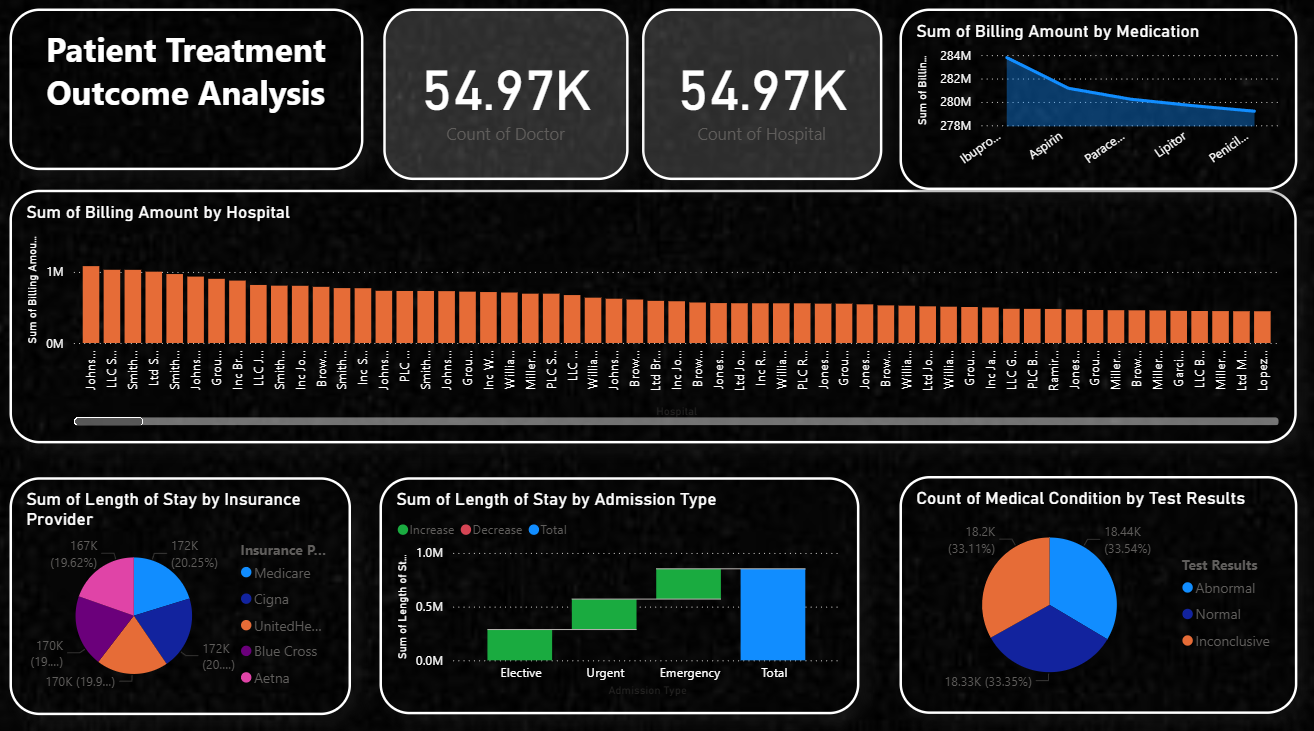

The page's visual inventory and layout, read from the dashboard file:
{"tool":"powerbi","page":{"name":"Page 1","canvas":[1280,720],"ordinal":0},"visuals":[{"type":"pieChart","fields":{"Category":["new cleained.Insurance Provider"],"Y":["Sum(new cleained.Length of Stay)"]},"box":[0,469.6,341.2,250.7],"z":0},{"type":"clusteredColumnChart","fields":{"Category":["new cleained.Hospital"],"Y":["Sum(new cleained.Billing Amount)"]},"box":[0,191.8,1280,244.9],"z":1},{"type":"waterfallChart","fields":{"Category":["new cleained.Admission Type"],"Y":["Sum(new cleained.Length of Stay)"]},"box":[369.3,469.6,463.5,228.7],"z":2},{"type":"pieChart","fields":{"Category":["new cleained.Test Results"],"Y":["CountNonNull(new cleained.Medical Condition)"]},"box":[870.7,468.3,384,229.9],"z":3},{"type":"areaChart","fields":{"Category":["new cleained.Medication"],"Y":["Sum(new cleained.Billing Amount)"]},"box":[871.1,16.9,409,174.9],"z":4},{"type":"card","fields":{"Values":["CountNonNull(new cleained.Hospital)"]},"box":[622.5,16.9,231.6,165.3],"z":5},{"type":"card","fields":{"Values":["CountNonNull(new cleained.Doctor)"]},"box":[372.8,8.4,236.5,173.7],"z":6},{"type":"textbox","box":[0,0,353.5,172.5],"z":7}]}

Visuals, with their boxes in screenshot pixels (x1, y1, x2, y2), scaled from the page's 1280x720 canvas onto the 1314x731 screenshot:
pieChart - new cleained.Insurance Provider x Sum(new cleained.Length of Stay): [x1=0, y1=477, x2=350, y2=730]
clusteredColumnChart - new cleained.Hospital x Sum(new cleained.Billing Amount): [x1=0, y1=195, x2=1313, y2=443]
waterfallChart - new cleained.Admission Type x Sum(new cleained.Length of Stay): [x1=379, y1=477, x2=855, y2=709]
pieChart - new cleained.Test Results x CountNonNull(new cleained.Medical Condition): [x1=894, y1=475, x2=1288, y2=709]
areaChart - new cleained.Medication x Sum(new cleained.Billing Amount): [x1=894, y1=17, x2=1313, y2=195]
card - CountNonNull(new cleained.Hospital): [x1=639, y1=17, x2=877, y2=185]
card - CountNonNull(new cleained.Doctor): [x1=383, y1=9, x2=625, y2=185]
textbox: [x1=0, y1=0, x2=363, y2=175]
